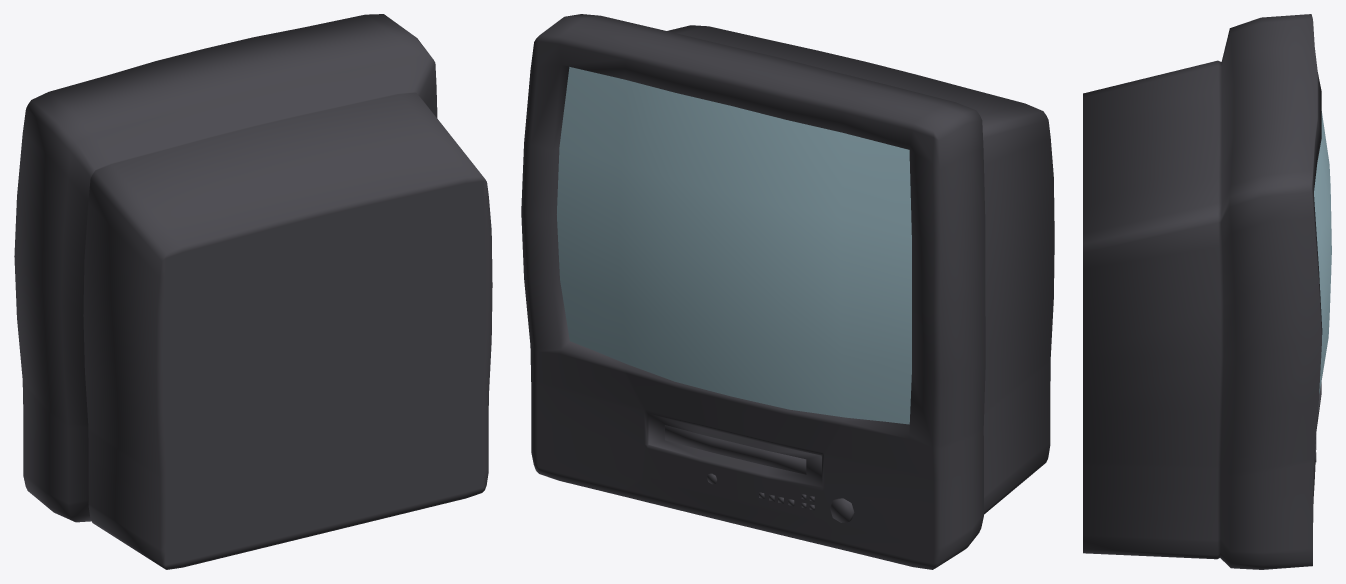
3 views of the same model, side by side, from view 1: azimuth 30°, elevation 25°; view 2: azimuth 150°, elevation 25°; view 3: azimuth 270°, elevation 25° (orthographic). The views are drawn at different scales.
Visible parts, largest first — view 1: s_TV_low; view 2: s_TV_low, s_TVScreen_low, s_TVLecteur_low; view 3: s_TV_low, s_TVScreen_low.
Boxes of the visible parts, x1,y1,x2,y2 form: s_TV_low: (14,14,492,569); s_TV_low: (521,14,1054,569); s_TVScreen_low: (557,67,911,424); s_TVLecteur_low: (665,425,806,474); s_TV_low: (1083,14,1322,569); s_TVScreen_low: (1314,111,1331,393).
Bounding box in the file's own units: 0.8371 × 0.8411 × 0.4829.
